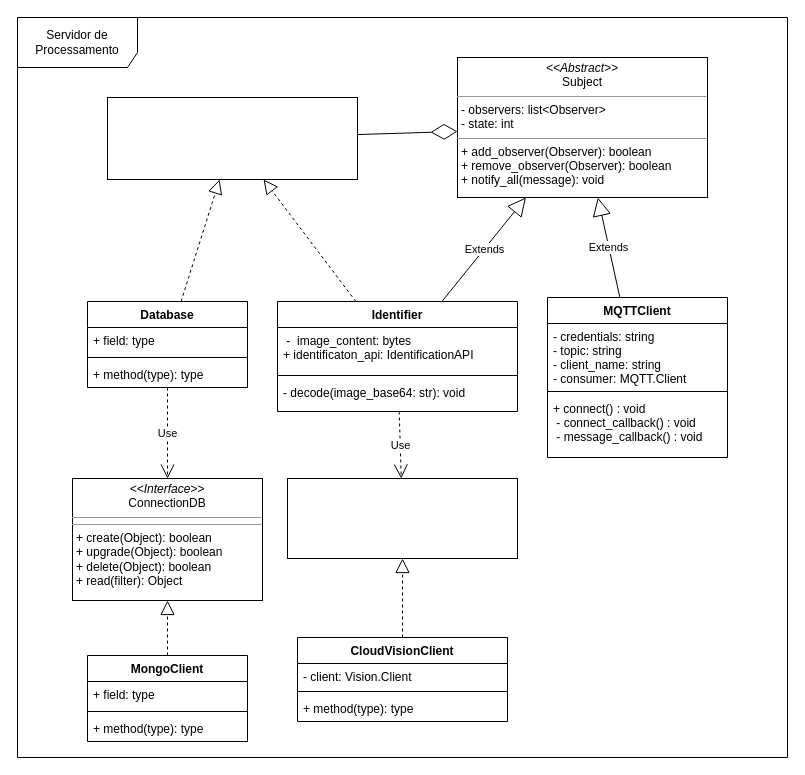
This 805x775 diagram has some shape labels left out. The centre of each missing label's shape, as x and y in pixels:
"<<Interface>> IdentificationAPI + request(image: bytes) : response" goes at point 402,518.
"<<Interface>> Observer + update(message) : void" goes at point 232,138.
